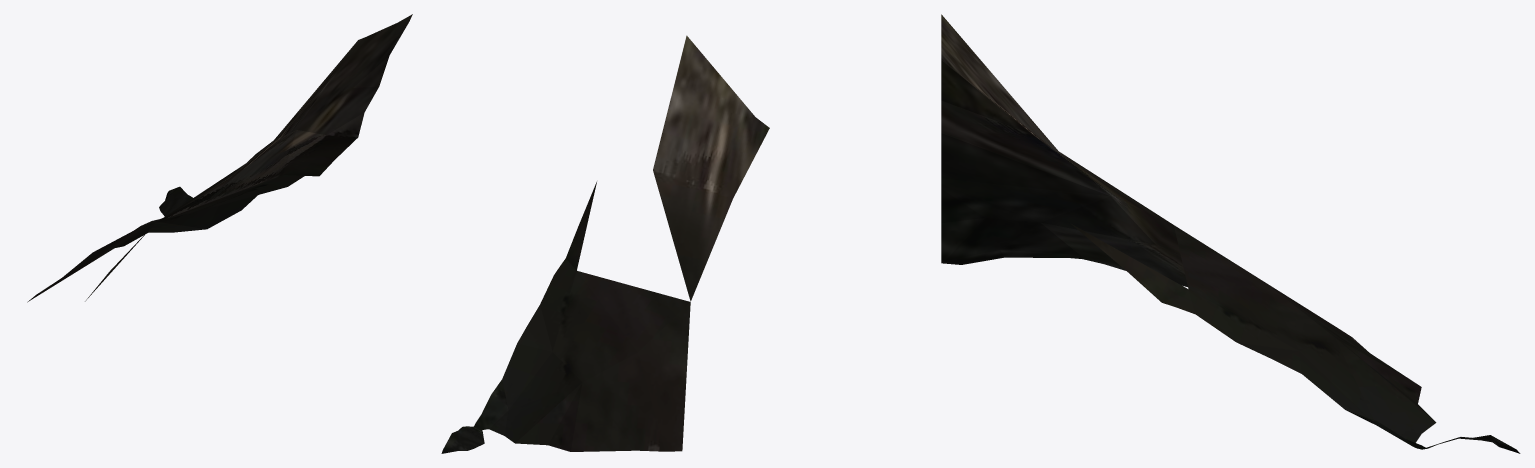
The picture shows the model from 3 angles, left to right: view 1: azimuth 30°, elevation 25°; view 2: azimuth 150°, elevation 25°; view 3: azimuth 270°, elevation 25°; orthographic projection. The views are drawn at different scales.
Bounding box in the file's own units: 0.668 × 0.6717 × 0.8329.
2 materials, 2 textured.
